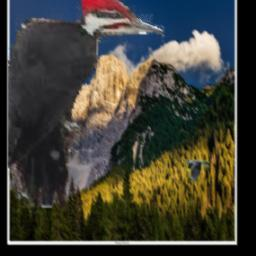Crow: (184, 159, 209, 181)
Woodpecker: (8, 0, 164, 209)
